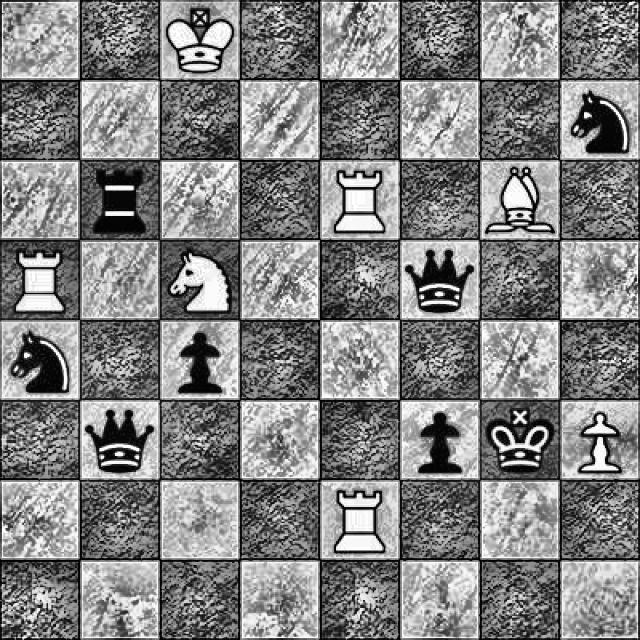Black Knight: (568, 88, 638, 160), (7, 324, 74, 397)
black king: (484, 399, 560, 479)
black pawn: (399, 401, 477, 478), (163, 327, 229, 398)
black queen: (403, 243, 479, 322), (82, 405, 153, 473)
black rook: (85, 165, 155, 240)
white bishop: (484, 162, 556, 237)
white king: (167, 6, 234, 77)
white pawn: (568, 407, 626, 478)
white rook: (326, 483, 396, 558), (8, 243, 78, 317), (328, 164, 389, 236)
whiteknight: (164, 240, 230, 317)
